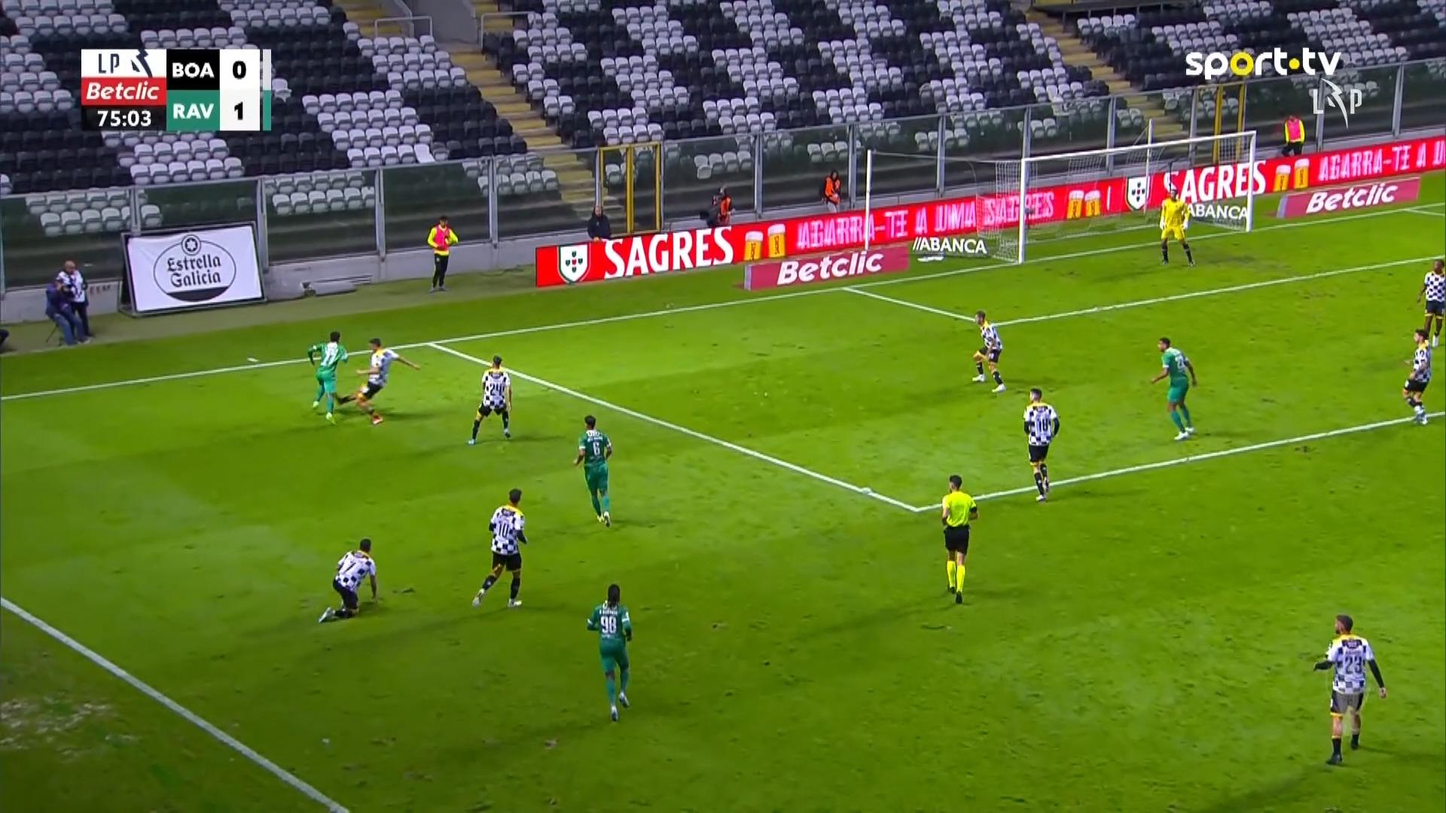goalkeeper: (1158, 185, 1196, 266)
player: (1312, 613, 1387, 765), (471, 488, 527, 607), (585, 583, 633, 721), (353, 336, 421, 425), (317, 537, 378, 623), (1150, 336, 1197, 440), (572, 414, 613, 527), (1022, 387, 1060, 501), (466, 354, 513, 445), (306, 330, 348, 424), (1401, 327, 1432, 425), (971, 309, 1005, 393), (1415, 257, 1444, 348)
referee: (939, 473, 978, 604)
